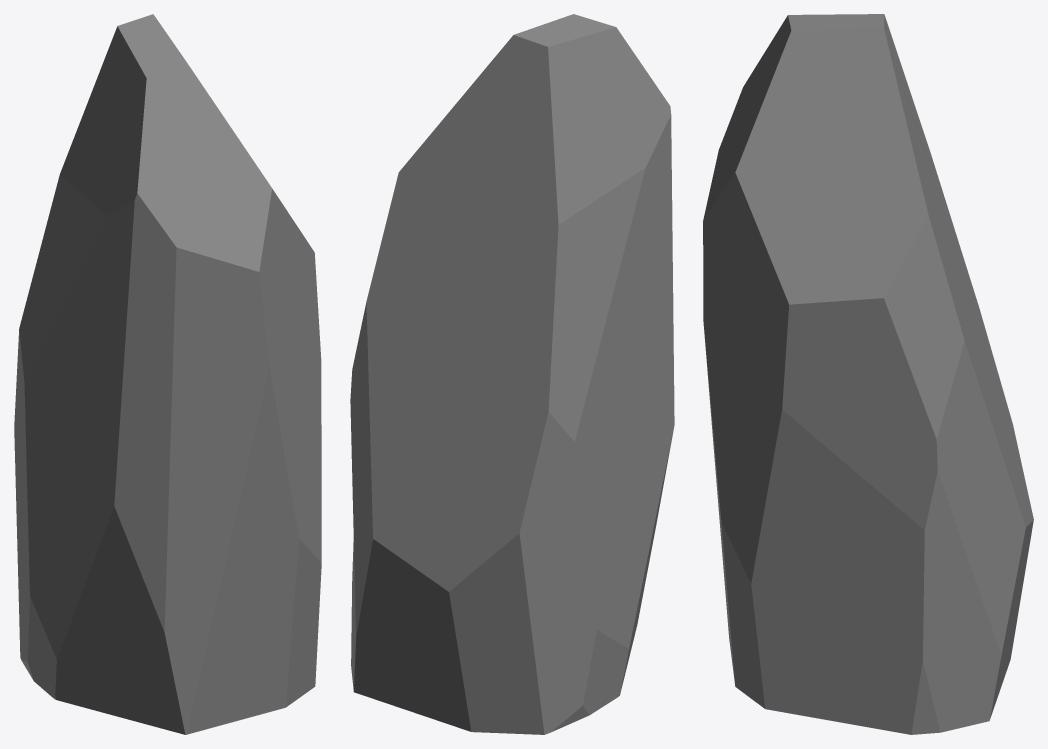
The model's file is HardRock_30.fbx.
3 renders of one model, left to right at view 1: azimuth 30°, elevation 25°; view 2: azimuth 150°, elevation 25°; view 3: azimuth 270°, elevation 25°, orthographic. The views are drawn at different scales.
Parts seen in each view (by area): view 1: HardRock_30; view 2: HardRock_30; view 3: HardRock_30.
Part boxes in pixels (x1,y1,x2,y2): HardRock_30: (14,14,321,734); HardRock_30: (350,14,674,734); HardRock_30: (703,14,1033,734).
Bounding box in the file's own units: 65.61 × 164 × 76.56.
